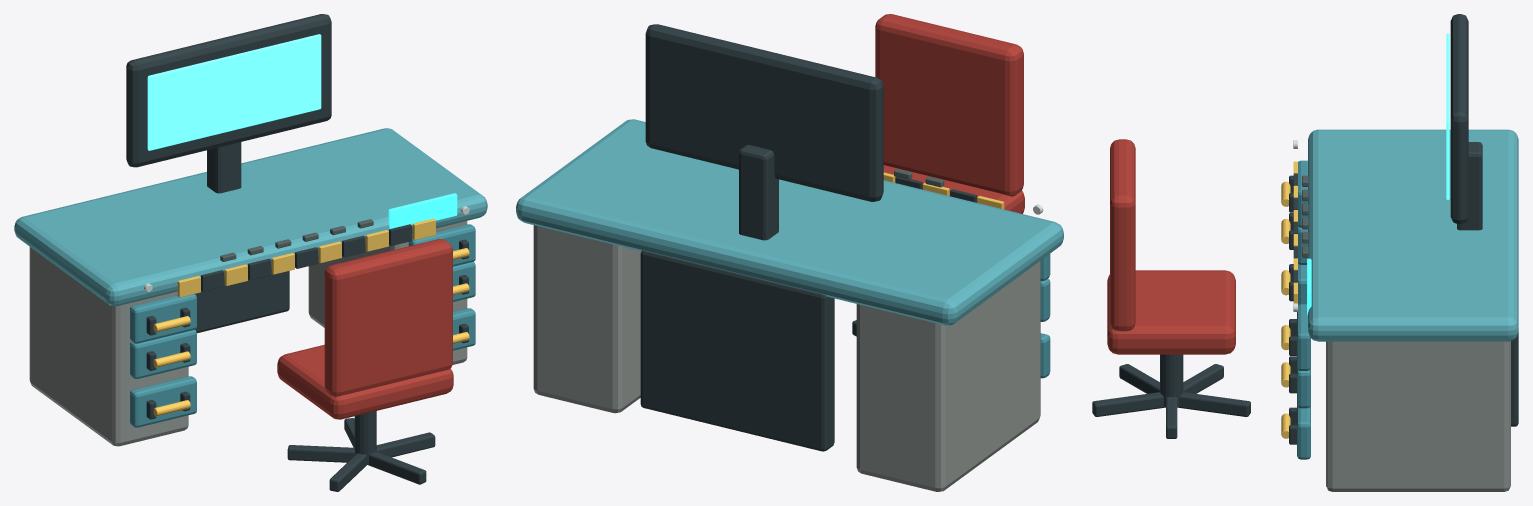
The model's file is Poste de travail compact.glb.
The picture shows the model from 3 angles, left to right: view 1: azimuth 30°, elevation 25°; view 2: azimuth 150°, elevation 25°; view 3: azimuth 270°, elevation 25°; orthographic projection. The views are drawn at different scales.
Parts seen in each view (by area): view 1: WORKSTATION_Main_Desk_Top, WORKSTATION_Chair_Back, WORKSTATION_Left_Side_Cabinet, WORKSTATION_Glowing_Main_Screen, WORKSTATION_Wide_Monitor_Housing, WORKSTATION_Chair_Seat, WORKSTATION_Center_Knee_Back, WORKSTATION_Left_Drawer_Face_0, WORKSTATION_Left_Drawer_Face_2, WORKSTATION_Right_Side_Cabinet, WORKSTATION_Left_Drawer_Face_1, WORKSTATION_Monitor_Stem (+9 smaller); view 2: WORKSTATION_Main_Desk_Top, WORKSTATION_Center_Knee_Back, WORKSTATION_Left_Side_Cabinet, WORKSTATION_Wide_Monitor_Housing, WORKSTATION_Chair_Back, WORKSTATION_Right_Side_Cabinet, WORKSTATION_Monitor_Stem, WORKSTATION_Chair_Seat; view 3: WORKSTATION_Main_Desk_Top, WORKSTATION_Right_Side_Cabinet, WORKSTATION_Chair_Seat, WORKSTATION_Chair_Back, WORKSTATION_Wide_Monitor_Housing, WORKSTATION_Monitor_Stem, WORKSTATION_Chair_Five_Star_Foot_1, WORKSTATION_Chair_Five_Star_Foot_4, WORKSTATION_Chair_Central_Column, WORKSTATION_Right_Drawer_Face_2, WORKSTATION_Right_Drawer_Face_0, WORKSTATION_Chair_Five_Star_Foot_2 (+5 smaller).
Boxes of the visible parts, x1,y1,x2,y2 form: WORKSTATION_Main_Desk_Top: (14, 128, 487, 306); WORKSTATION_Chair_Back: (324, 239, 452, 396); WORKSTATION_Left_Side_Cabinet: (29, 247, 188, 446); WORKSTATION_Glowing_Main_Screen: (147, 34, 321, 150); WORKSTATION_Wide_Monitor_Housing: (126, 14, 331, 167); WORKSTATION_Chair_Seat: (277, 344, 453, 419); WORKSTATION_Center_Knee_Back: (195, 269, 289, 333); WORKSTATION_Left_Drawer_Face_0: (130, 376, 196, 427); WORKSTATION_Left_Drawer_Face_2: (130, 294, 196, 343); WORKSTATION_Right_Side_Cabinet: (308, 221, 467, 364); WORKSTATION_Left_Drawer_Face_1: (130, 330, 196, 378); WORKSTATION_Monitor_Stem: (207, 142, 241, 193); WORKSTATION_Main_Desk_Top: (516, 119, 1063, 325); WORKSTATION_Center_Knee_Back: (640, 250, 834, 451); WORKSTATION_Left_Side_Cabinet: (856, 261, 1040, 491); WORKSTATION_Wide_Monitor_Housing: (645, 24, 883, 201); WORKSTATION_Chair_Back: (875, 14, 1023, 196); WORKSTATION_Right_Side_Cabinet: (533, 225, 641, 413); WORKSTATION_Monitor_Stem: (739, 144, 778, 240); WORKSTATION_Chair_Seat: (883, 165, 1024, 213); WORKSTATION_Main_Desk_Top: (1308, 129, 1518, 341); WORKSTATION_Right_Side_Cabinet: (1326, 341, 1510, 491); WORKSTATION_Chair_Seat: (1107, 270, 1235, 354); WORKSTATION_Chair_Back: (1110, 139, 1135, 331); WORKSTATION_Wide_Monitor_Housing: (1450, 14, 1468, 223); WORKSTATION_Monitor_Stem: (1457, 142, 1482, 230); WORKSTATION_Chair_Five_Star_Foot_1: (1177, 392, 1250, 416); WORKSTATION_Chair_Five_Star_Foot_4: (1092, 392, 1165, 416); WORKSTATION_Chair_Central_Column: (1160, 354, 1183, 406); WORKSTATION_Right_Drawer_Face_2: (1297, 304, 1310, 370); WORKSTATION_Right_Drawer_Face_0: (1297, 405, 1310, 459); WORKSTATION_Chair_Five_Star_Foot_2: (1183, 364, 1223, 393).
Bounding box in the file's own units: 1.8 × 1.47 × 1.66.
